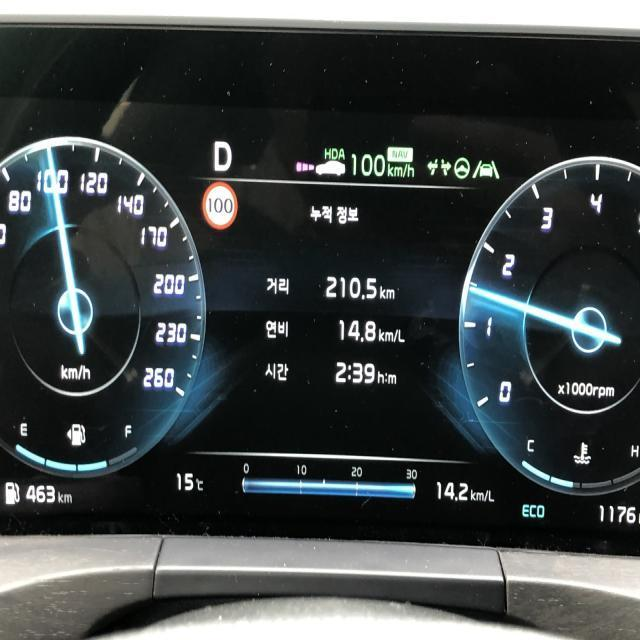LaneCenteringOff: (471, 158, 499, 180)
